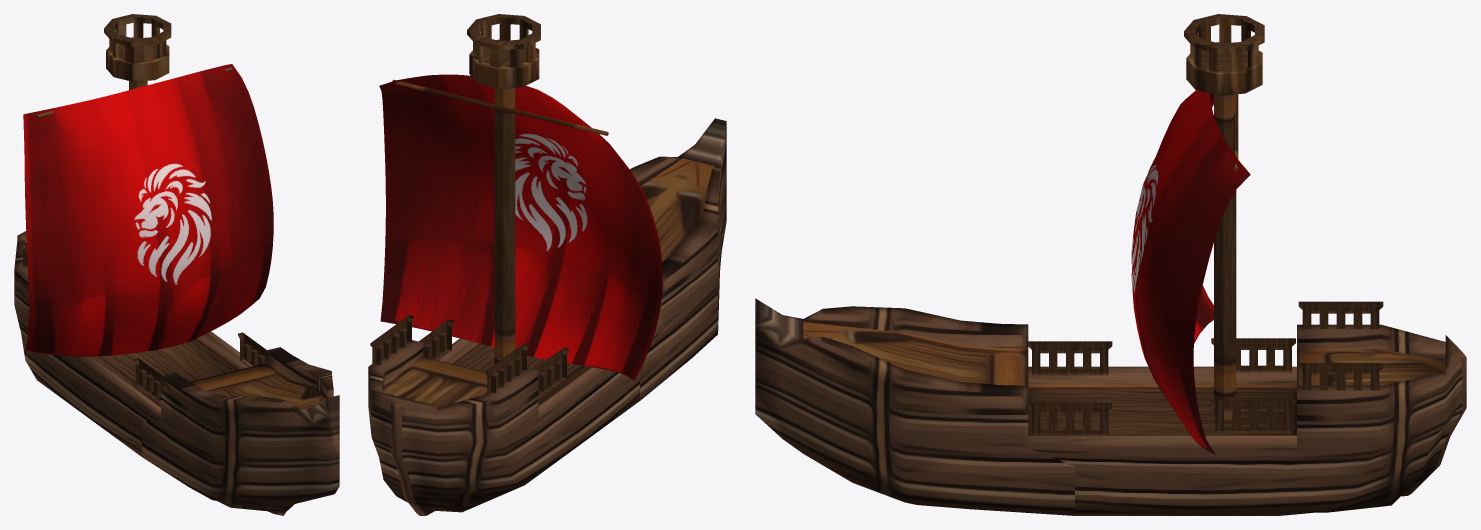
Rendered from ship.glb.
The picture shows the model from 3 angles, left to right: view 1: azimuth 30°, elevation 25°; view 2: azimuth 150°, elevation 25°; view 3: azimuth 270°, elevation 25°; orthographic projection. The views are drawn at different scales.
Visible parts, largest first — view 1: ship_mesh; view 2: ship_mesh; view 3: ship_mesh.
Part boxes in pixels (x1=…): ship_mesh: x1=14, y1=14, x2=339, y2=515; ship_mesh: x1=368, y1=14, x2=726, y2=515; ship_mesh: x1=755, y1=14, x2=1466, y2=515.
Size of the model in its own units: 5.75 by 8.7 by 11.85.
Materials: 3 (3 with a texture image).
